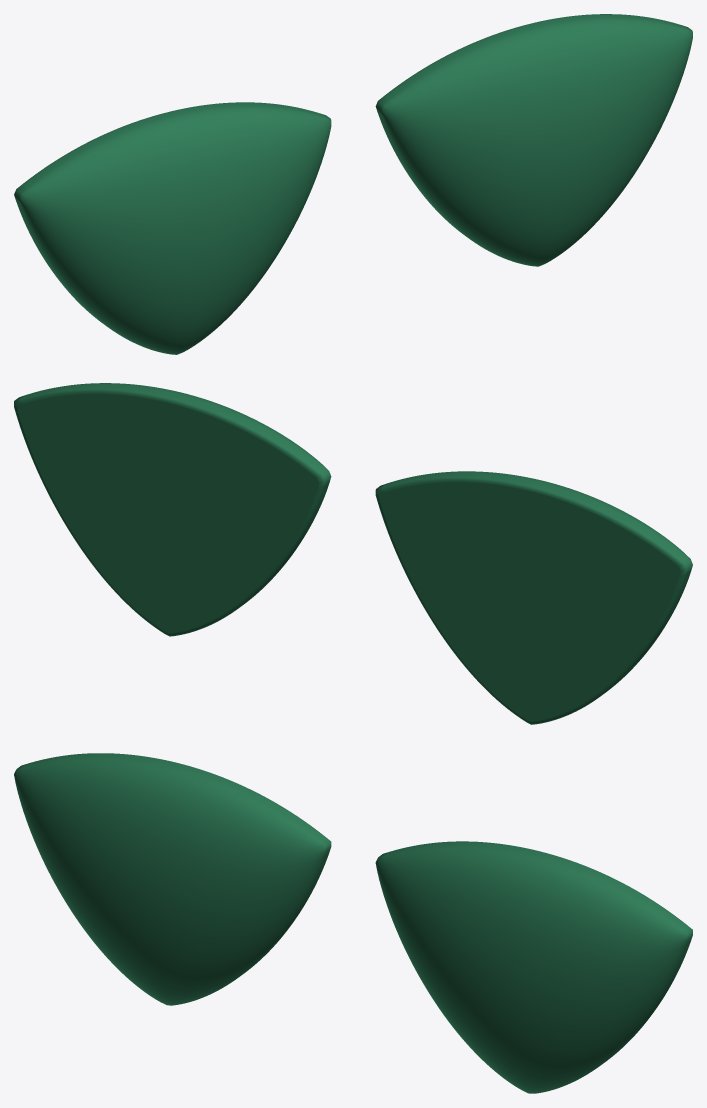
The model's file is matched-pair-v1.glb.
3 views of the same model, one above another, from view 1: azimuth 30°, elevation 25°; view 2: azimuth 150°, elevation 25°; view 3: azimuth 330°, elevation 25° (orthographic).
Parts seen in each view (by area): view 1: Bowed-Triangle Cabochon 16x22x4mm, Bowed-Triangle Cabochon 16x22x4mm.001; view 2: Bowed-Triangle Cabochon 16x22x4mm, Bowed-Triangle Cabochon 16x22x4mm.001; view 3: Bowed-Triangle Cabochon 16x22x4mm, Bowed-Triangle Cabochon 16x22x4mm.001.
Part boxes in pixels (x1,y1,x2,y2): Bowed-Triangle Cabochon 16x22x4mm: [14, 102, 331, 354]; Bowed-Triangle Cabochon 16x22x4mm.001: [375, 14, 692, 266]; Bowed-Triangle Cabochon 16x22x4mm: [375, 471, 692, 724]; Bowed-Triangle Cabochon 16x22x4mm.001: [14, 383, 331, 636]; Bowed-Triangle Cabochon 16x22x4mm: [14, 753, 331, 1005]; Bowed-Triangle Cabochon 16x22x4mm.001: [375, 841, 692, 1093].
Bounding box in the file's own units: 0.0472 × 0.016 × 0.00398.
